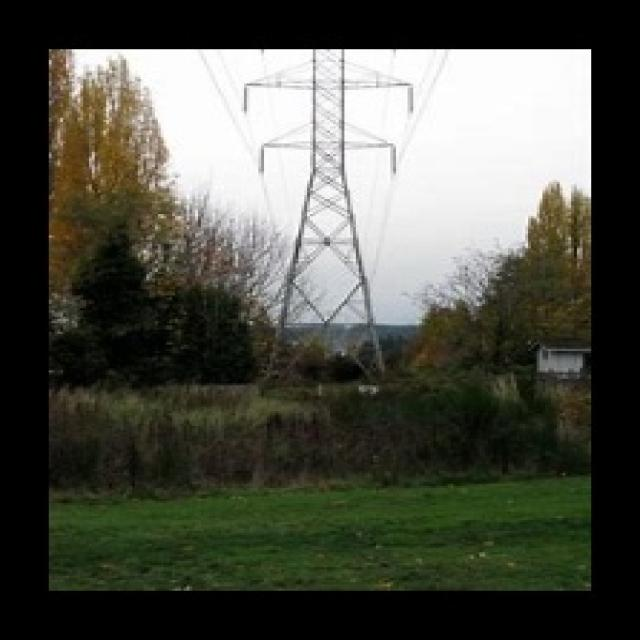utility poles: (196, 252, 313, 374), (343, 288, 478, 387)
